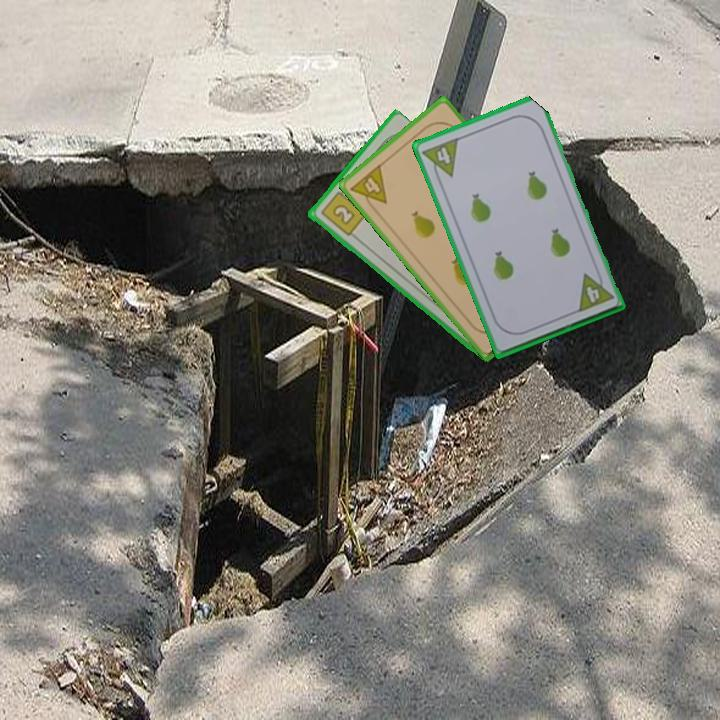2b: (317, 184, 369, 239)
4p: (347, 160, 390, 215), (419, 134, 461, 184), (574, 266, 616, 315)
